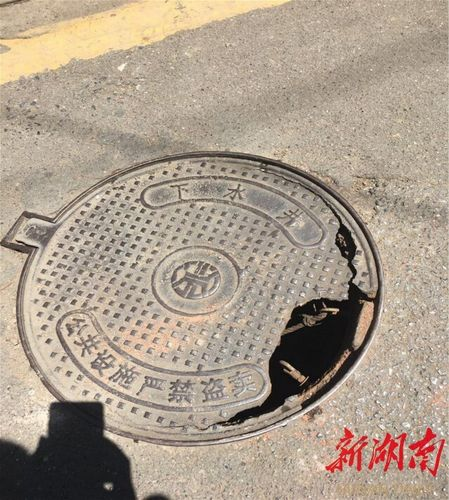broke: (8, 134, 384, 443)
